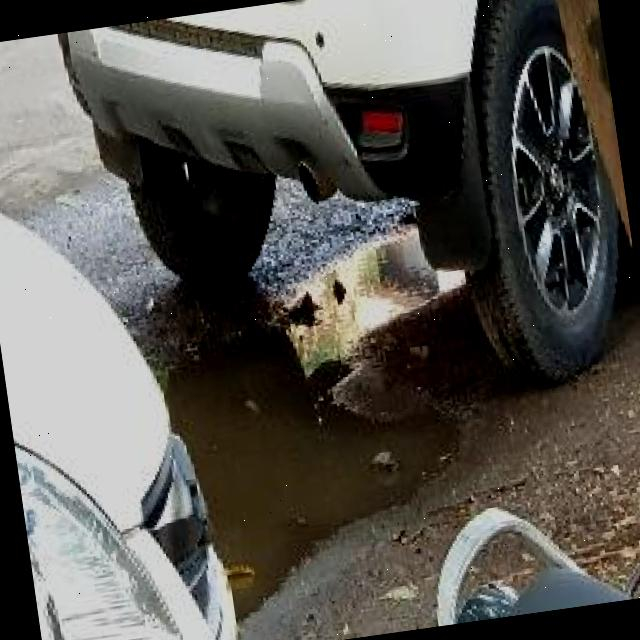stagnation: (152, 214, 483, 608)
